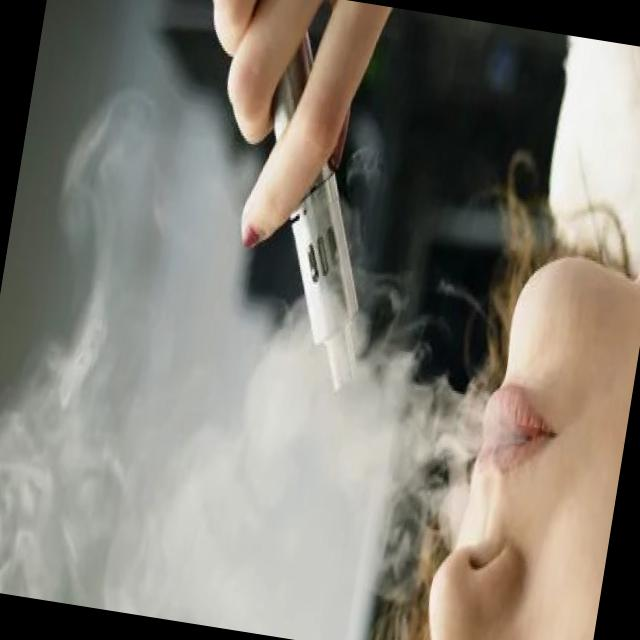cigarette: (209, 2, 418, 406)
